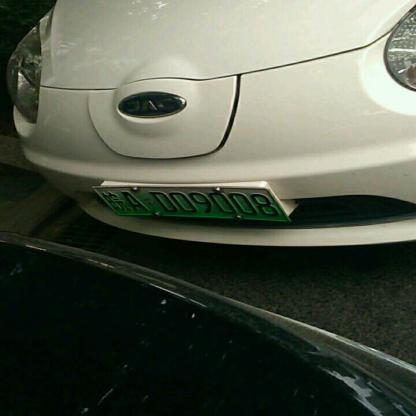lp: (92, 186, 288, 220)
